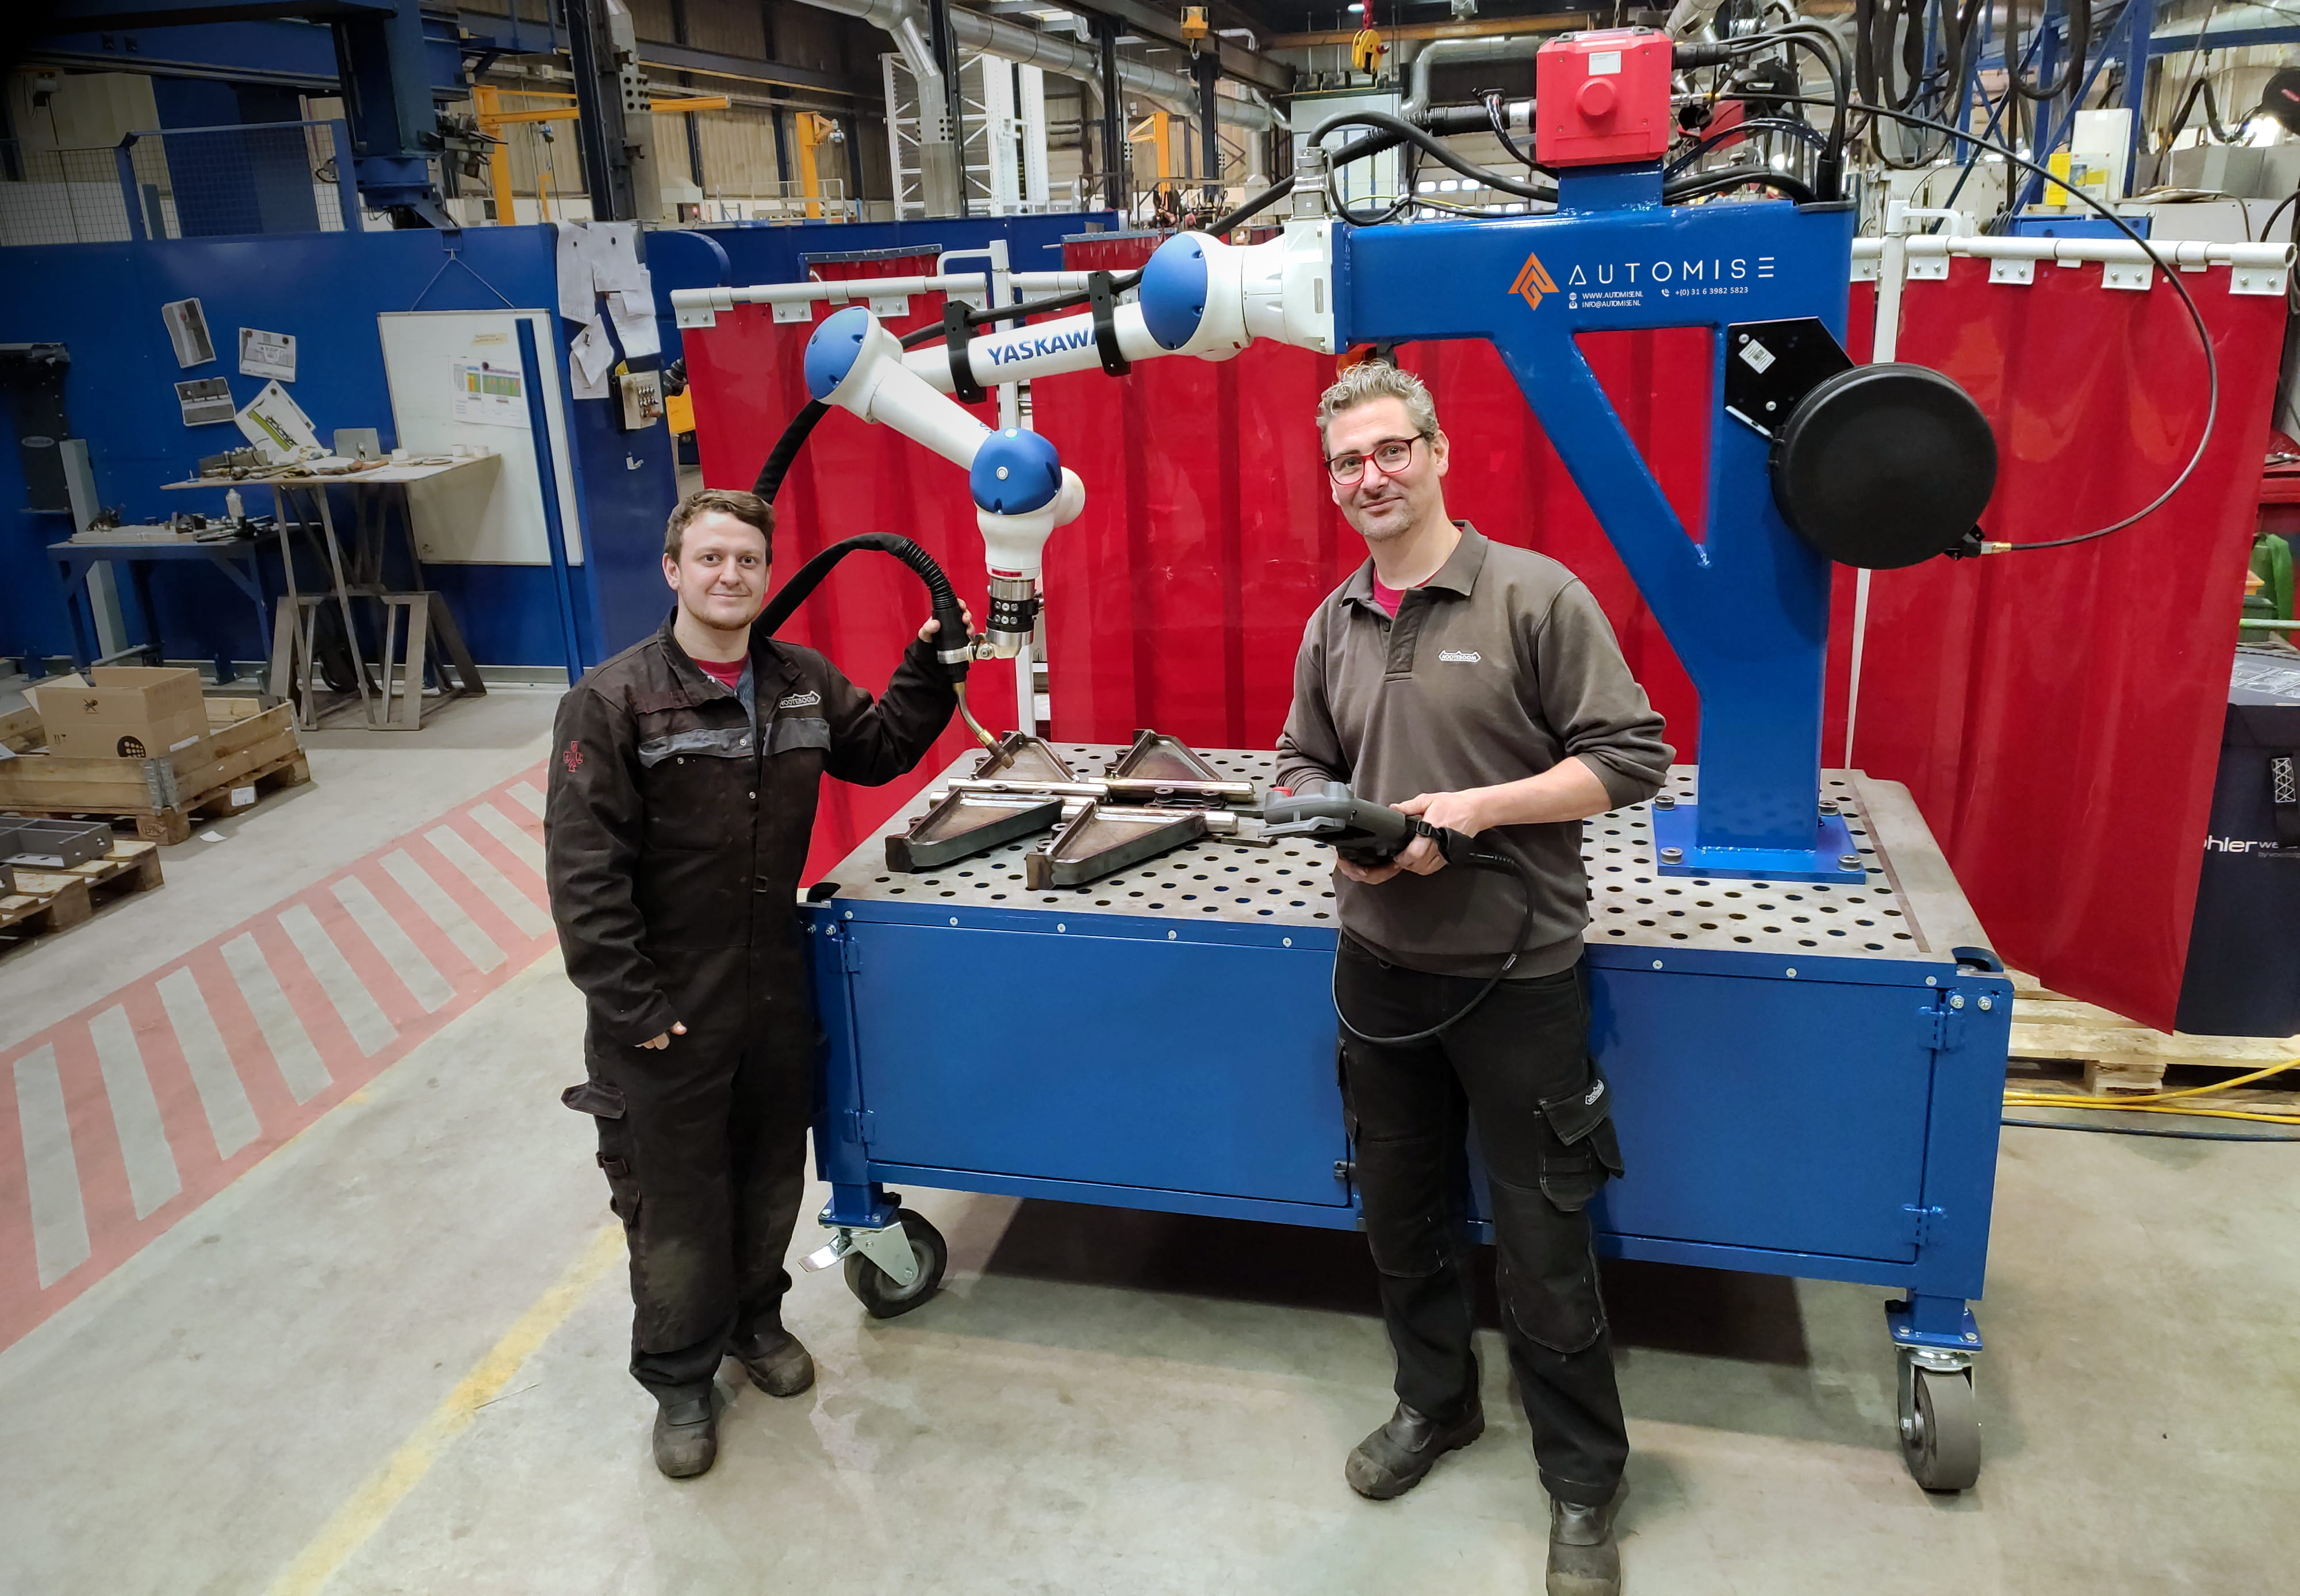person: (1276, 371, 1676, 1596), (550, 491, 980, 1479)
robot: (807, 198, 1859, 883)
